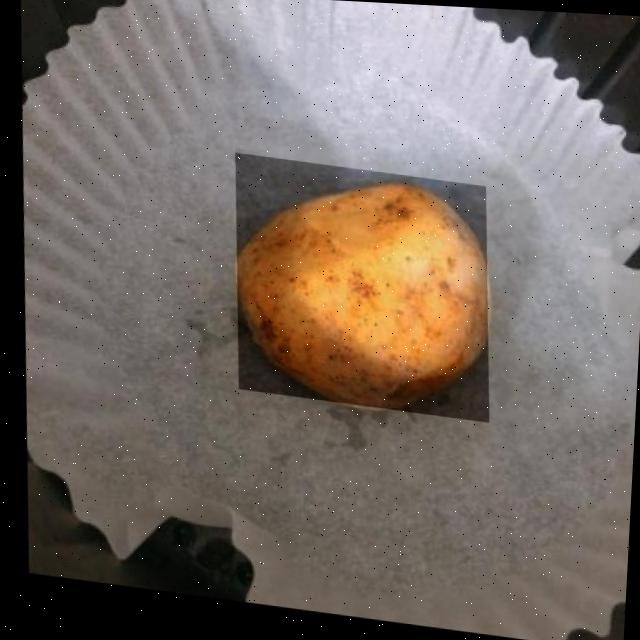Potato: (219, 162, 496, 426)
